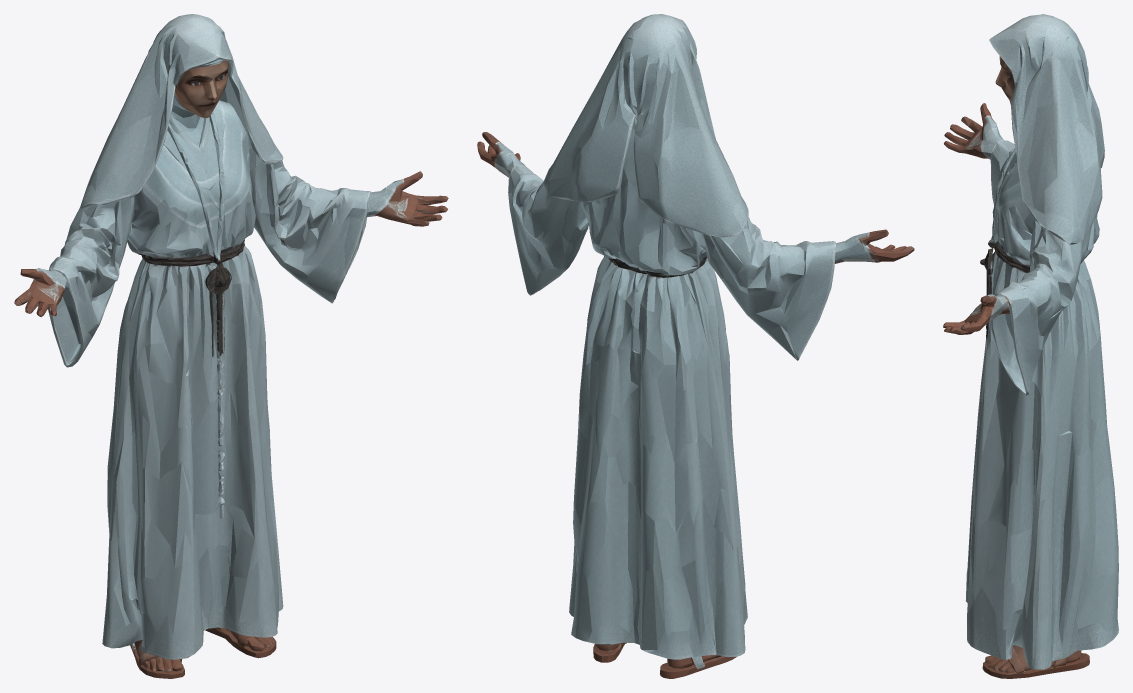
The model's file is vellum.glb.
The picture shows the model from 3 angles, left to right: view 1: azimuth 30°, elevation 25°; view 2: azimuth 150°, elevation 25°; view 3: azimuth 270°, elevation 25°; orthographic projection.
Bounding box in the file's own units: 1.37 × 1.9 × 0.4811.
1 material, 1 textured.
